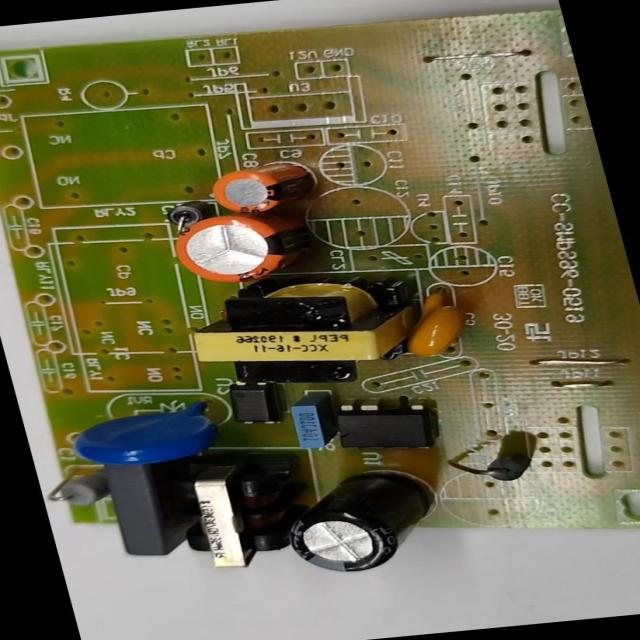Cap1: (167, 210, 308, 288)
Cap2: (207, 160, 318, 215)
Cap3: (276, 468, 446, 576)
MOSFET: (332, 401, 439, 456)
Mov: (66, 400, 224, 470)
Resistor: (43, 472, 105, 504)
Transformer: (180, 272, 423, 387), (172, 470, 290, 572)
